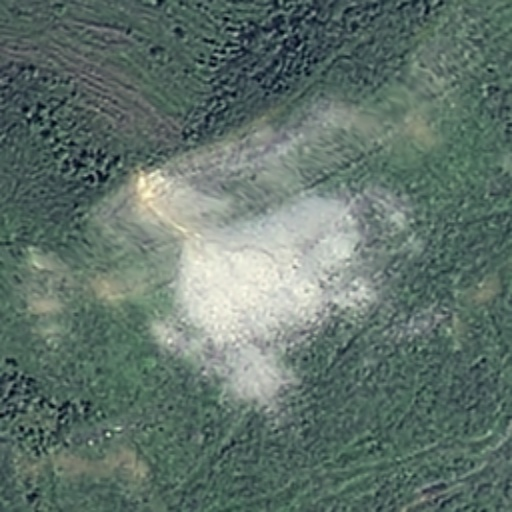landslide: (115, 166, 367, 410)
